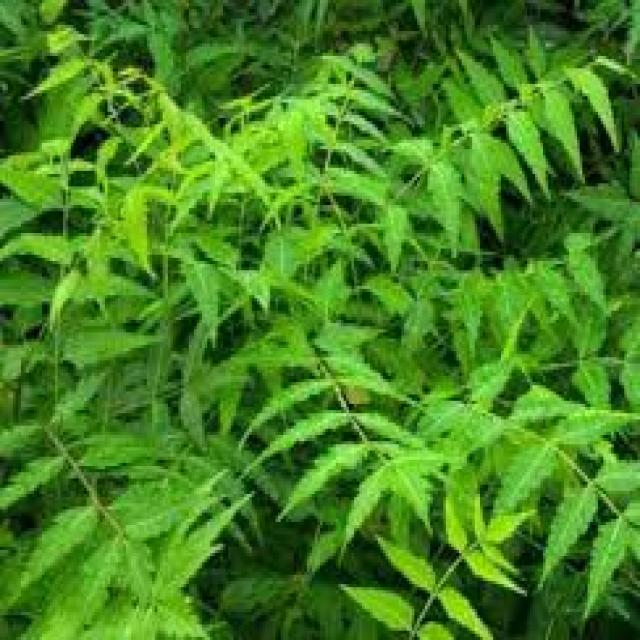Neem-Tree: (4, 0, 640, 639)
